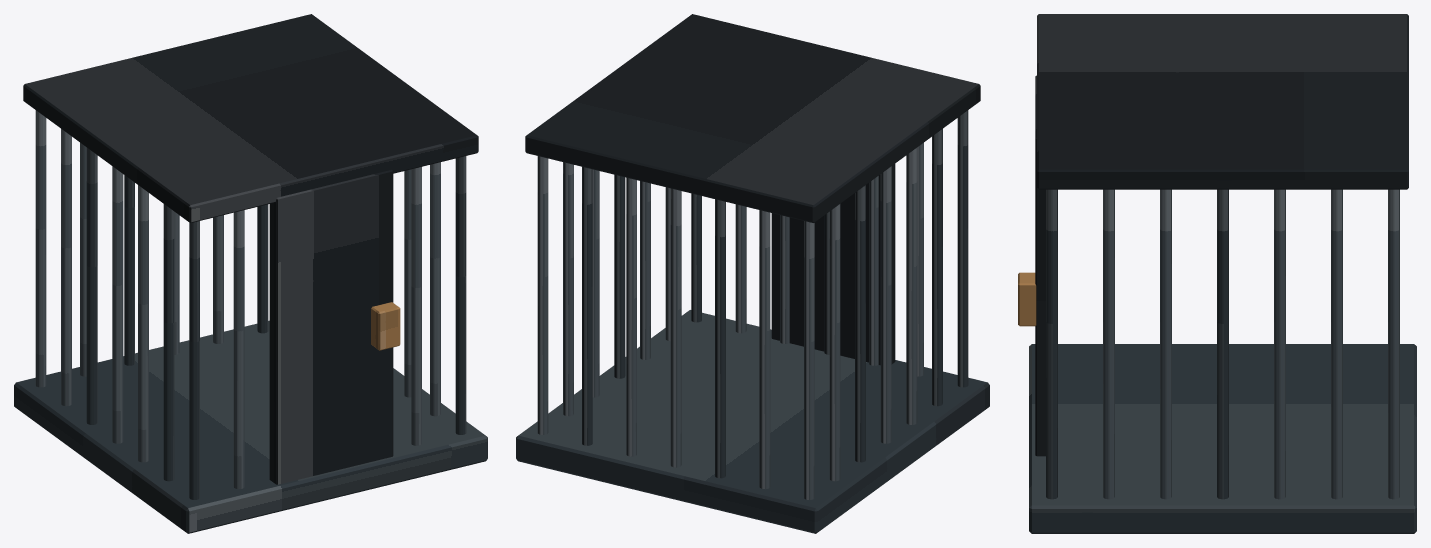
File: dungeon_cage.glb
3 views of the same model, side by side, from view 1: azimuth 30°, elevation 25°; view 2: azimuth 150°, elevation 25°; view 3: azimuth 270°, elevation 25° (orthographic). The views are drawn at different scales.
Parts seen in each view (by area): view 1: CageRoof, CagePlinth, CageDoorFrame, CageBar_03, CageBar_04, CageBar_01, CageBar_06, CageBar_18, CageBar_14, CageBar_00, CageBar_20, CageBar_10 (+9 smaller); view 2: CageRoof, CagePlinth, CageDoorFrame, CageBar_13, CageBar_05, CageBar_25, CageBar_00, CageBar_10, CageBar_22, CageBar_14, CageBar_09, CageBar_17 (+15 smaller); view 3: CageRoof, CagePlinth, CageBar_03, CageBar_07, CageBar_11, CageBar_15, CageBar_19, CageBar_23, CageBar_25, CageDoorFrame, CageLatch.
Boxes of the visible parts, box(x1,y1,x2,y2) form: CageRoof: box(23, 14, 478, 222); CagePlinth: box(14, 320, 487, 533); CageDoorFrame: box(269, 170, 393, 484); CageBar_03: box(455, 156, 466, 434); CageBar_04: box(233, 210, 244, 489); CageBar_01: box(35, 110, 46, 387); CageBar_06: box(163, 204, 174, 481); CageBar_18: box(86, 147, 97, 424); CageBar_14: box(112, 166, 123, 443); CageBar_00: box(189, 221, 199, 499); CageBar_20: box(411, 167, 421, 445); CageBar_10: box(138, 185, 148, 462); CageRoof: box(525, 14, 980, 222); CagePlinth: box(516, 310, 989, 533); CageDoorFrame: box(771, 164, 895, 365); CageBar_13: box(670, 188, 681, 467); CageBar_05: box(759, 210, 770, 489); CageBar_25: box(537, 156, 548, 434); CageBar_00: box(957, 110, 968, 387); CageBar_10: box(906, 147, 917, 424); CageBar_22: box(829, 204, 840, 481); CageBar_14: box(880, 166, 891, 443); CageBar_09: box(715, 199, 725, 478); CageBar_17: box(626, 177, 636, 456); CageRoof: box(1037, 14, 1408, 189); CagePlinth: box(1029, 344, 1416, 533); CageBar_03: box(1046, 189, 1057, 499); CageBar_07: box(1103, 189, 1114, 499); CageBar_11: box(1160, 189, 1171, 499); CageBar_15: box(1217, 189, 1228, 499); CageBar_19: box(1274, 189, 1285, 499); CageBar_23: box(1331, 189, 1342, 499); CageBar_25: box(1388, 189, 1399, 499); CageDoorFrame: box(1035, 75, 1045, 456); CageLatch: box(1018, 272, 1036, 326).
Bounding box in the file's own units: 2.45 × 2.52 × 2.52.
Materials: 2 (2 with a texture image).
